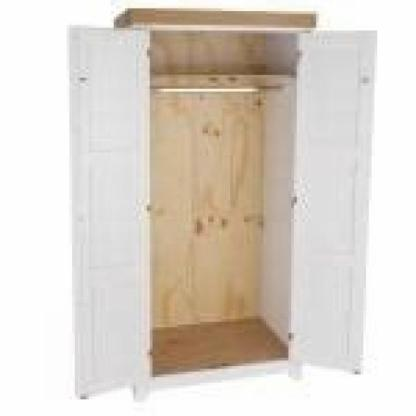Closet: (61, 5, 375, 406)
